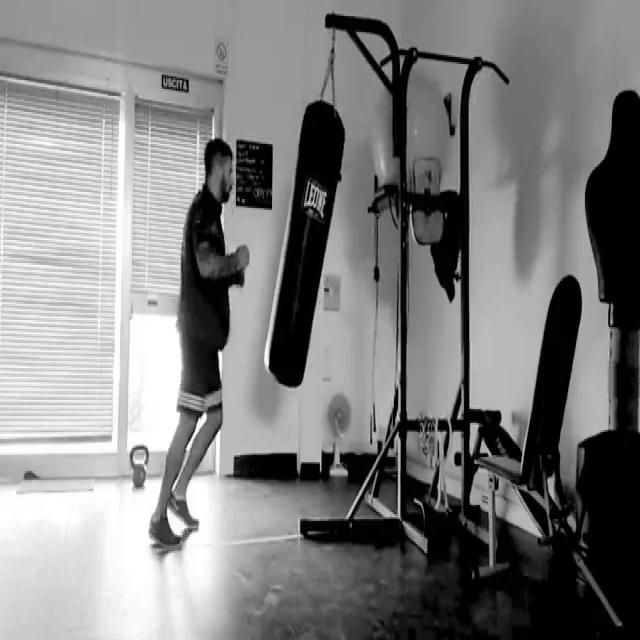Punching Bag: (254, 90, 354, 397)
